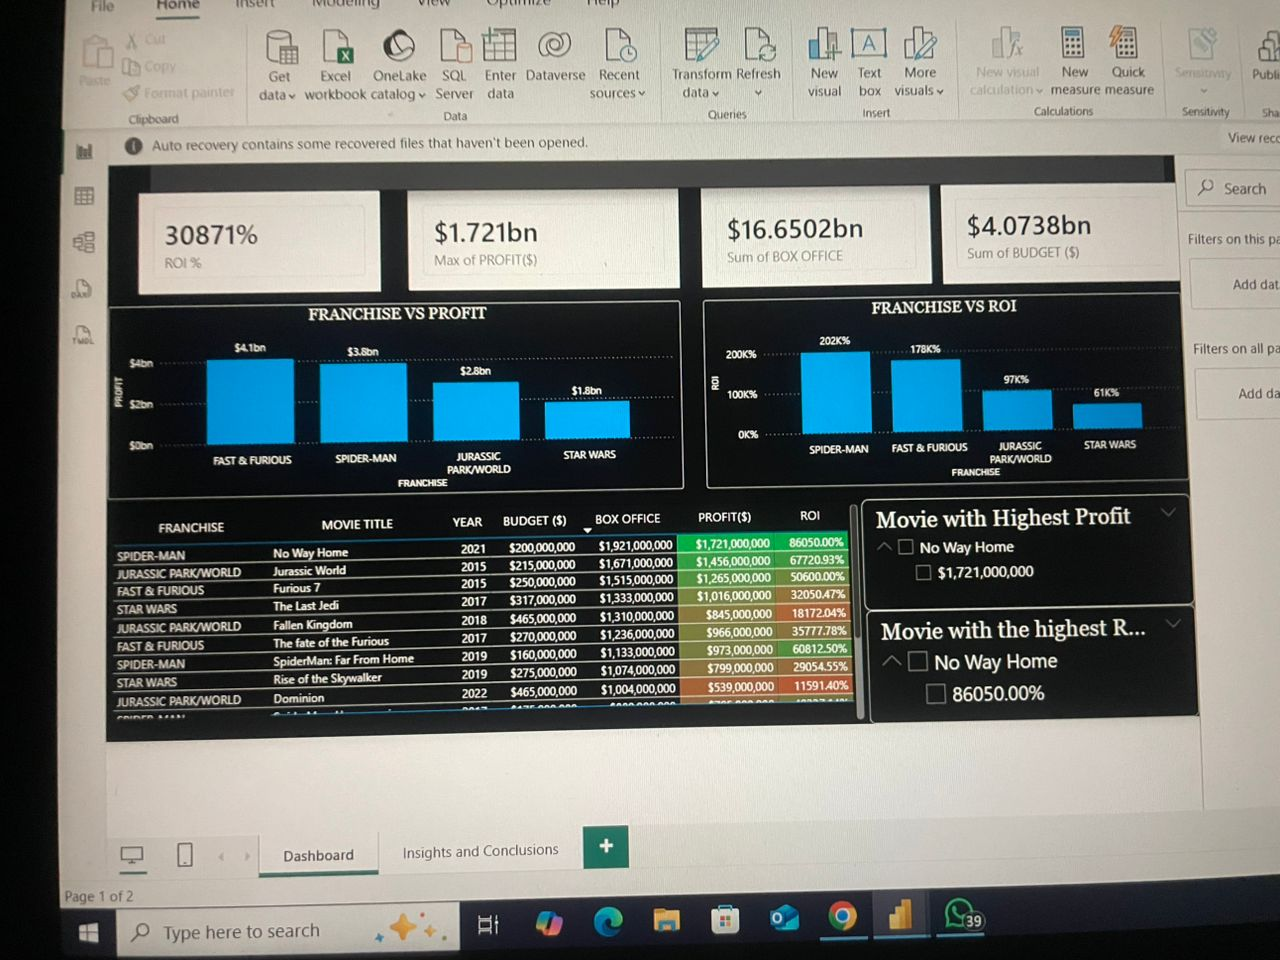

Layout of this report page (visuals, bound fields, positions):
{"tool":"powerbi","page":{"name":"Dashboard","canvas":[1280,720],"ordinal":0},"visuals":[{"type":"actionButton","box":[0,0,100,40],"z":0},{"type":"cardVisual","fields":{"Data":["Max(The Ressurection Project (Data Analytics)CSV.PROFIT($))"]},"box":[352.7,79.6,322.5,119.4],"z":1000},{"type":"cardVisual","fields":{"Data":["Sum(The Ressurection Project (Data Analytics)CSV.BOX OFFICE)"]},"box":[702.6,79.6,275.8,119.4],"z":2000},{"type":"textbox","box":[49.4,0,1218.5,79.6],"z":3000},{"type":"columnChart","title":" FRANCHISE VS PROFIT","fields":{"Category":["The Ressurection Project (Data Analytics)CSV.FRANCHISE"],"Y":["Sum(The Ressurection Project (Data Analytics)CSV.PROFIT($))"]},"box":[1.4,214.1,673.8,226.4],"z":4000},{"type":"columnChart","title":" FRANCHISE VS ROI","fields":{"Category":["The Ressurection Project (Data Analytics)CSV.FRANCHISE"],"Y":["Sum(The Ressurection Project (Data Analytics)CSV.ROI)"]},"box":[702.6,214.1,577.7,226.4],"z":5000},{"type":"tableEx","fields":{"Values":["The Ressurection Project (Data Analytics)CSV.FRANCHISE","The Ressurection Project (Data Analytics)CSV.MOVIE TITLE","The Ressurection Project (Data Analytics)CSV.YEAR","The Ressurection Project (Data Analytics)CSV.BUDGET ($)","The Ressurection Project (Data Analytics)CSV.BOX OFFICE","The Ressurection Project (Data Analytics)CSV.PROFIT($)","The Ressurection Project (Data Analytics)CSV.ROI"]},"box":[1.4,456.9,886.5,263.5],"z":6000},{"type":"slicer","fields":{"Values":["The Ressurection Project (Data Analytics)CSV.MOVIE TITLE","The Ressurection Project (Data Analytics)CSV.PROFIT($)"]},"box":[886.6,457.6,393.4,131.1],"z":7000},{"type":"slicer","fields":{"Values":["The Ressurection Project (Data Analytics)CSV.MOVIE TITLE","The Ressurection Project (Data Analytics)CSV.ROI"]},"box":[888,588.7,392,131.1],"z":8000},{"type":"cardVisual","fields":{"Data":["The Ressurection Project (Data Analytics)CSV.ROI %"]},"box":[37.1,79.8,282.2,119.7],"z":9000},{"type":"cardVisual","fields":{"Data":["Sum(The Ressurection Project (Data Analytics)CSV.BUDGET ($))"]},"box":[992.1,79.8,287.9,119.7],"z":10000}]}

Visuals, with their boxes on the page's 1280x720 design canvas (x1, y1, x2, y2). These are canvas units, not pixel positions in the 1280x960 screenshot, which may show the page scaled, cropped or inside an application window:
actionButton: [left=0, top=0, right=100, bottom=40]
cardVisual - Max(The Ressurection Project (Data Analytics)CSV.PROFIT($)): [left=353, top=80, right=675, bottom=199]
cardVisual - Sum(The Ressurection Project (Data Analytics)CSV.BOX OFFICE): [left=703, top=80, right=978, bottom=199]
textbox: [left=49, top=0, right=1268, bottom=80]
" FRANCHISE VS PROFIT" columnChart: [left=1, top=214, right=675, bottom=440]
" FRANCHISE VS ROI" columnChart: [left=703, top=214, right=1280, bottom=440]
tableEx - The Ressurection Project (Data Analytics)CSV.FRANCHISE x The Ressurection Project (Data Analytics)CSV.MOVIE TITLE: [left=1, top=457, right=888, bottom=720]
slicer - The Ressurection Project (Data Analytics)CSV.MOVIE TITLE x The Ressurection Project (Data Analytics)CSV.PROFIT($): [left=887, top=458, right=1280, bottom=589]
slicer - The Ressurection Project (Data Analytics)CSV.MOVIE TITLE x The Ressurection Project (Data Analytics)CSV.ROI: [left=888, top=589, right=1280, bottom=720]
cardVisual - The Ressurection Project (Data Analytics)CSV.ROI %: [left=37, top=80, right=319, bottom=200]
cardVisual - Sum(The Ressurection Project (Data Analytics)CSV.BUDGET ($)): [left=992, top=80, right=1280, bottom=200]
